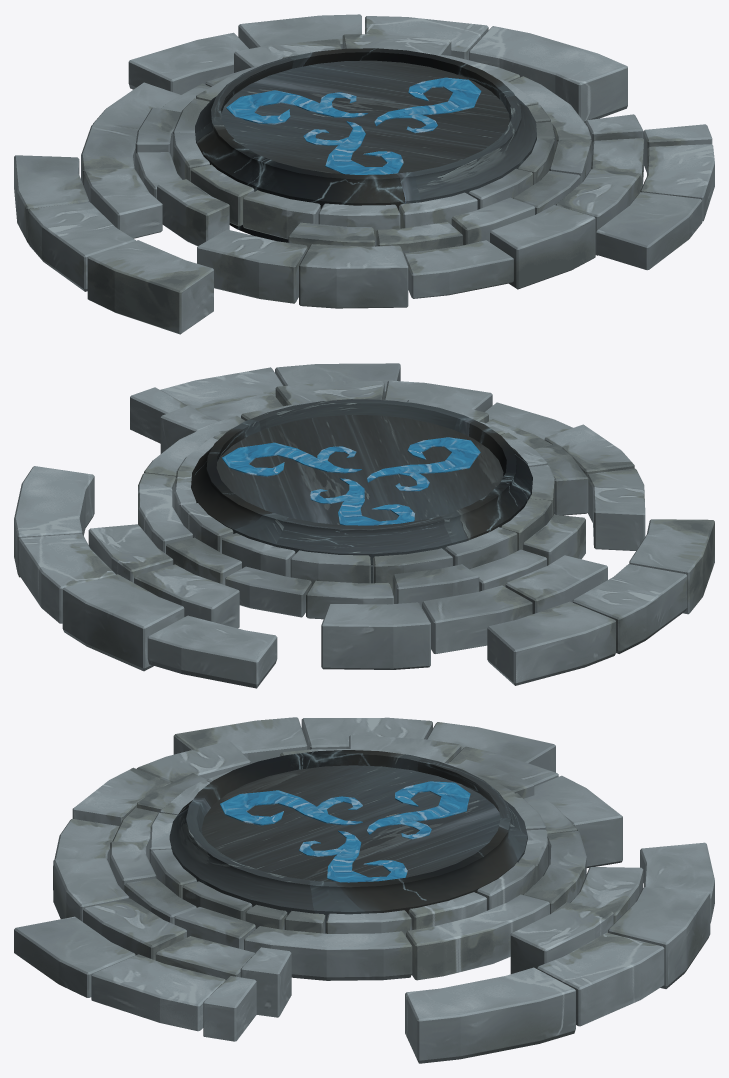
The model's file is t_srodek.obj.
3 views of the same model, one above another, from view 1: azimuth 30°, elevation 25°; view 2: azimuth 150°, elevation 25°; view 3: azimuth 270°, elevation 25° (orthographic). The views are drawn at different scales.
Parts seen in each view (by area): view 1: t_podest; view 2: t_podest; view 3: t_podest.
Boxes of the visible parts, x1=… form: t_podest: x1=14, y1=14, x2=714, y2=334; t_podest: x1=14, y1=363, x2=714, y2=688; t_podest: x1=14, y1=717, x2=714, y2=1063.
Bounding box in the file's own units: 40.94 × 6.16 × 39.61.
Materials: 3 (3 with a texture image).
